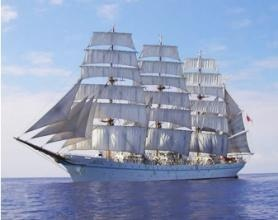fanchuan: (15, 21, 267, 181)
